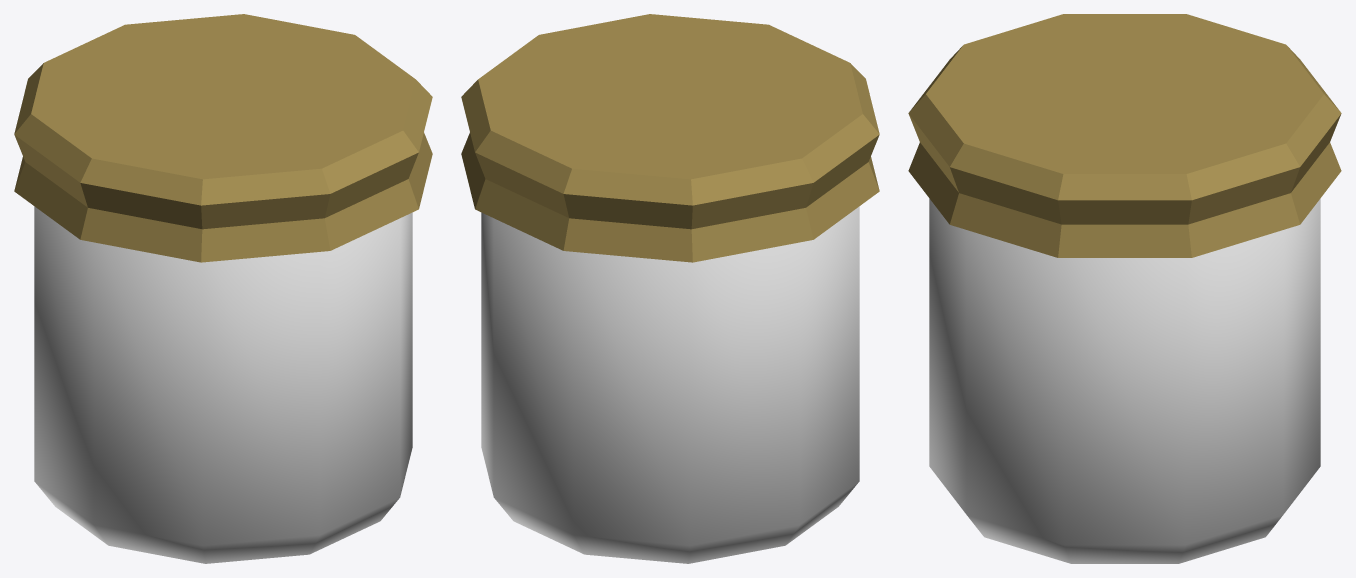
File: Jar_Empty.glb
The picture shows the model from 3 angles, left to right: view 1: azimuth 30°, elevation 25°; view 2: azimuth 150°, elevation 25°; view 3: azimuth 270°, elevation 25°; orthographic projection.
Visible parts, largest first — view 1: Jar_Empty; view 2: Jar_Empty; view 3: Jar_Empty.
Boxes of the visible parts, x1=… form: Jar_Empty: x1=14, y1=14, x2=432, y2=563; Jar_Empty: x1=461, y1=14, x2=879, y2=563; Jar_Empty: x1=908, y1=14, x2=1341, y2=563.
Bounding box in the file's own units: 0.1859 × 0.1991 × 0.1954.
Materials: 2 (1 with a texture image).
